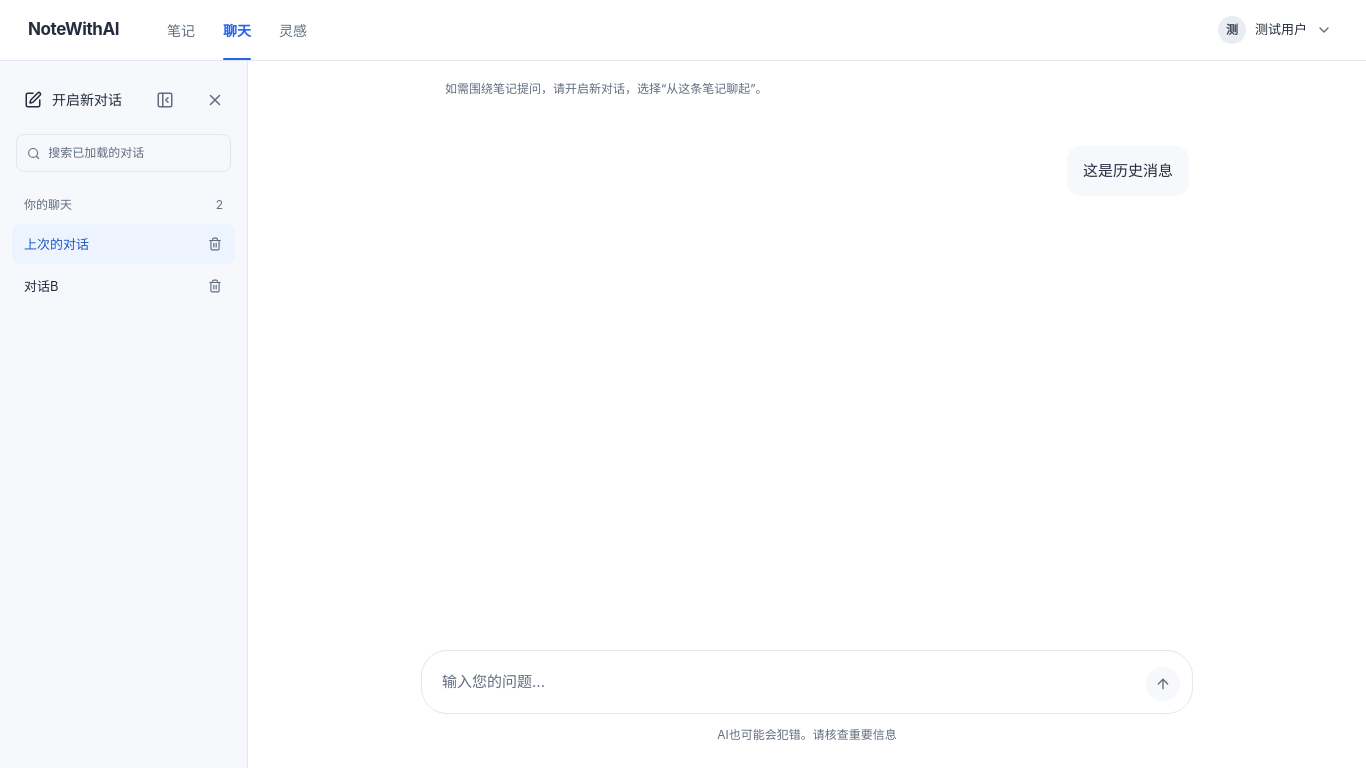
Test: chat page entry › successful deletion of another history preserves the active explicit URL (final F2)
Click the button named "删除对话：对话B".
click(215, 286)  # box [201,272,229,300]
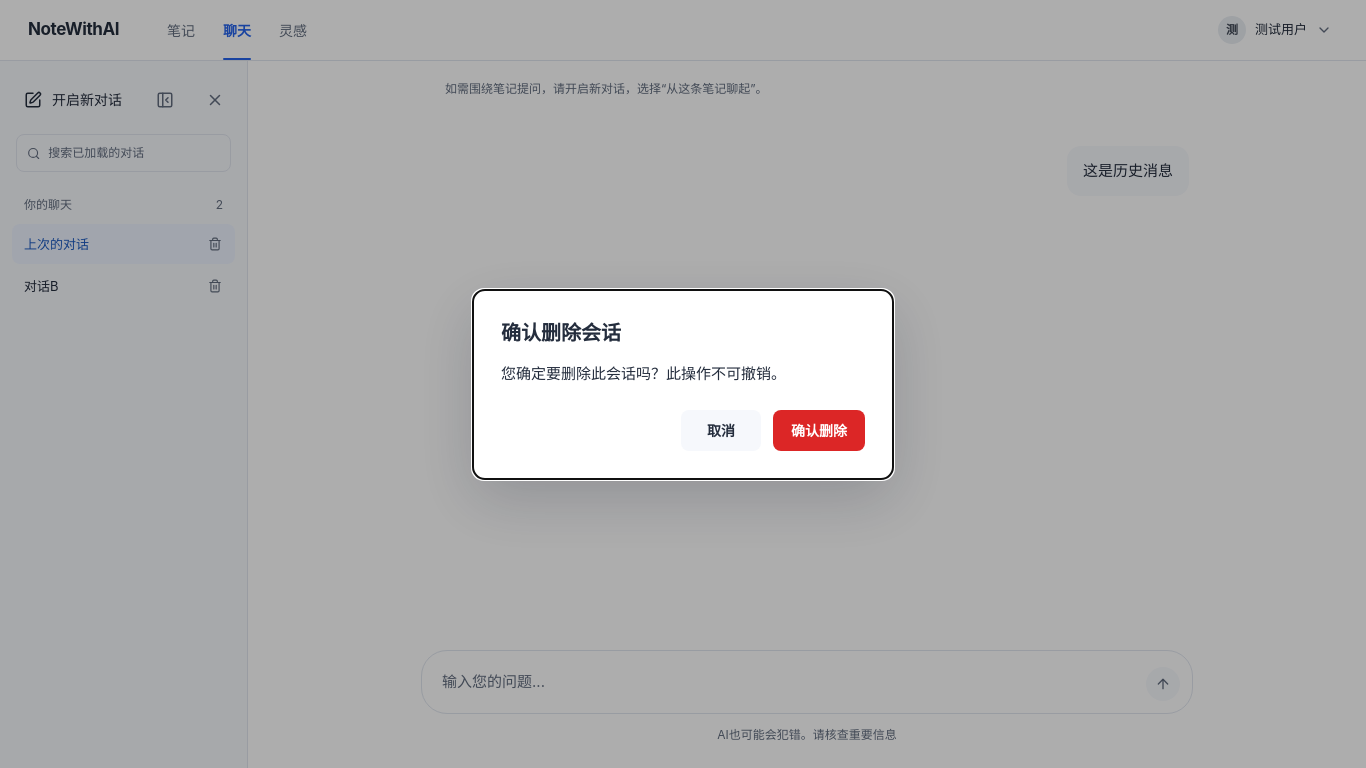
Click the button "确认删除".
click(819, 430)  # box [773,410,865,450]
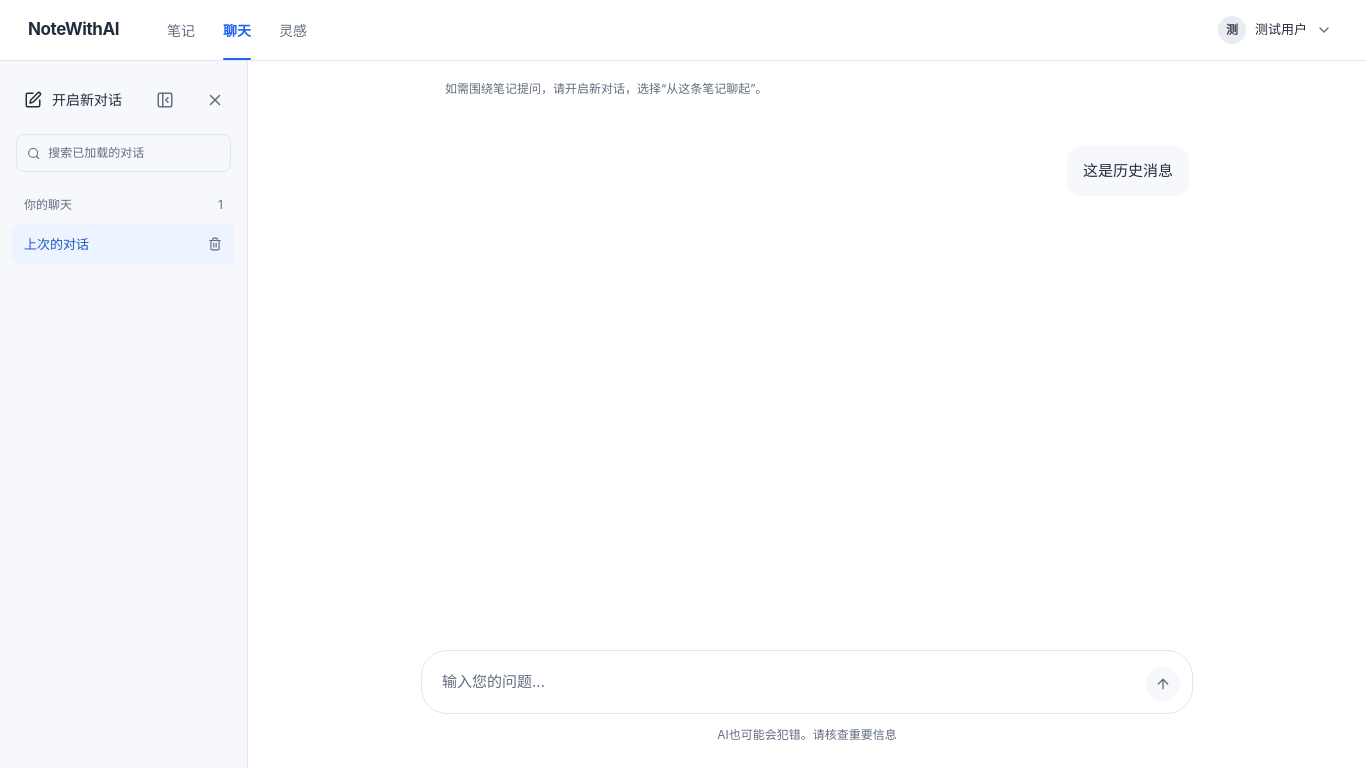
Check: the text "这是历史消息" is shown, box [1067,146,1189,196]
Check: the button "对话B" is gone
